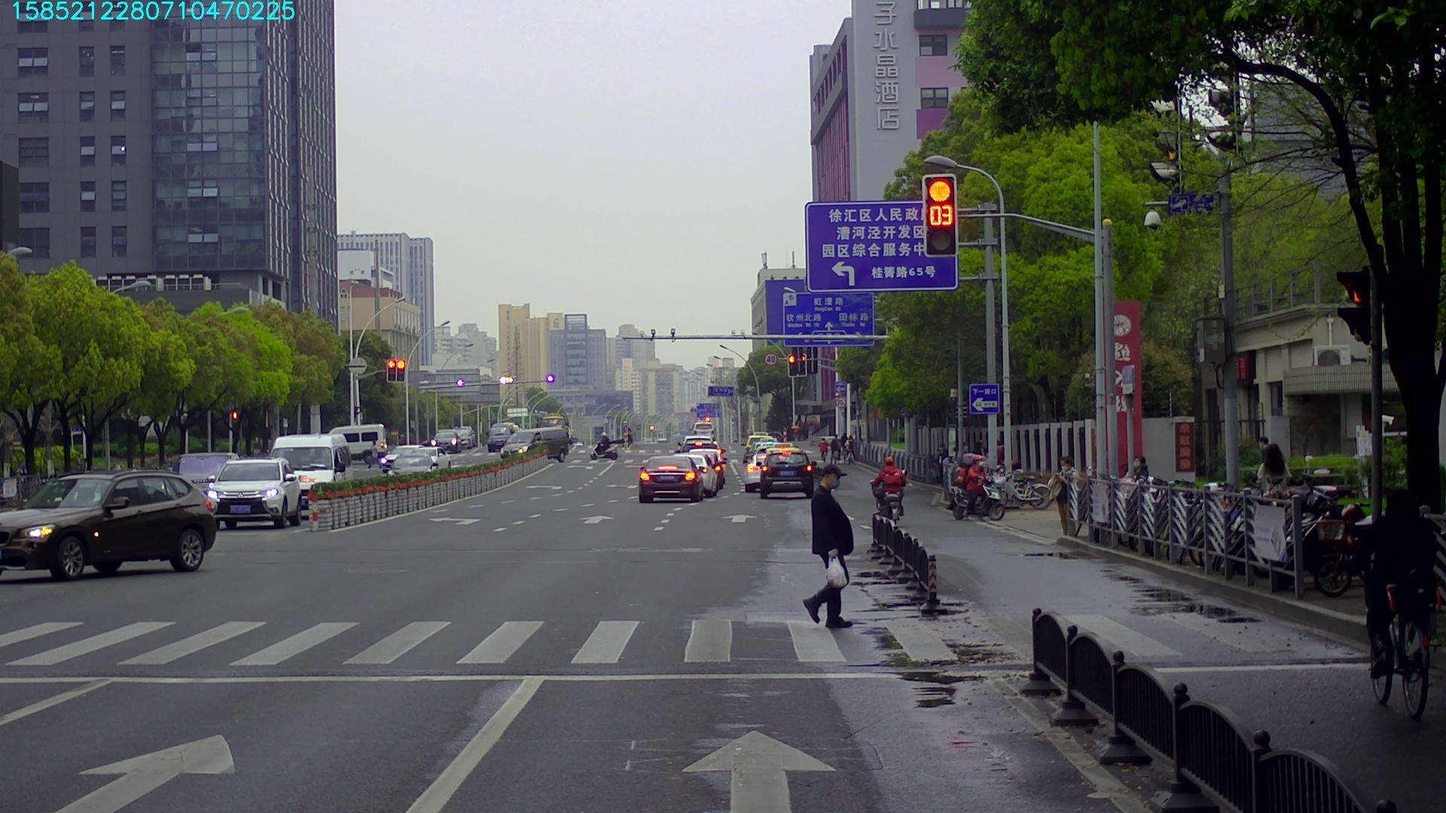red: (923, 178, 956, 257), (787, 354, 797, 376), (386, 360, 396, 381), (396, 358, 404, 381), (798, 353, 805, 375)
